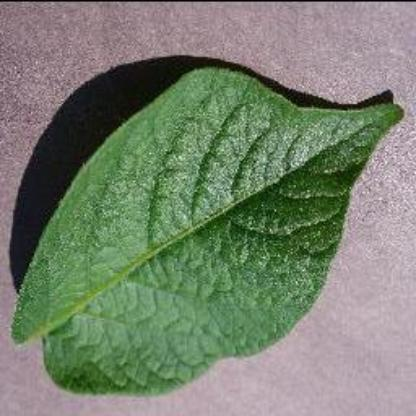Healthy-plant: (11, 23, 408, 415)
